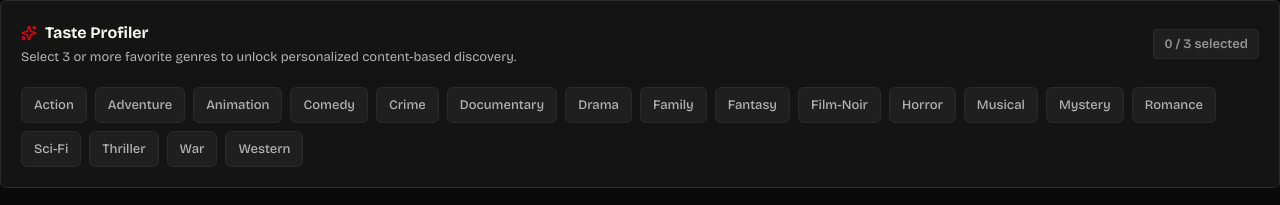
Test case: TasteProfiler Component › renders all 18 genres and toggles genre selections
expect the heading "Taste Profiler" is shown: met, box [45, 21, 148, 45]
expect the text "0 / 3 selected" is shown: met, box [1154, 29, 1259, 59]
Click the button "Sci-Fi": (51, 149) [21, 131, 81, 167]
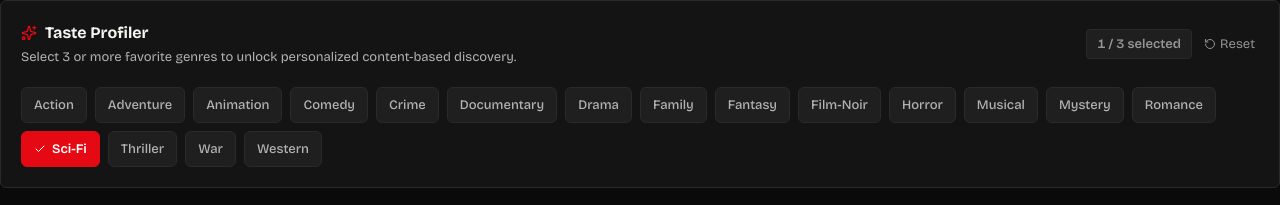
expect the text "1 / 3 selected" is shown: met, box [1086, 29, 1192, 59]
Note: Toggle 2 more genres to complete
Click the button "Action": (54, 105) [21, 87, 87, 123]
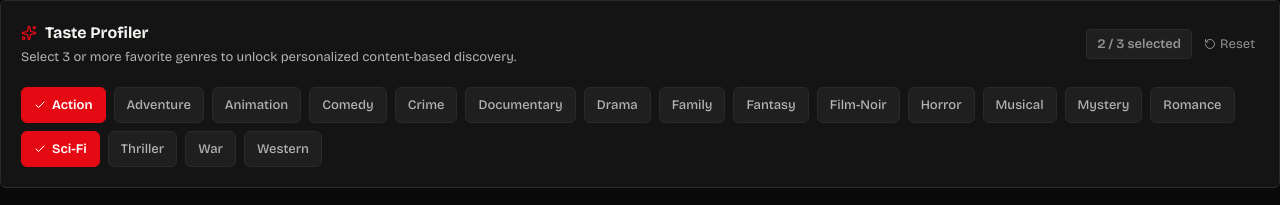
Click the button "Adventure": (159, 105) [114, 87, 204, 123]
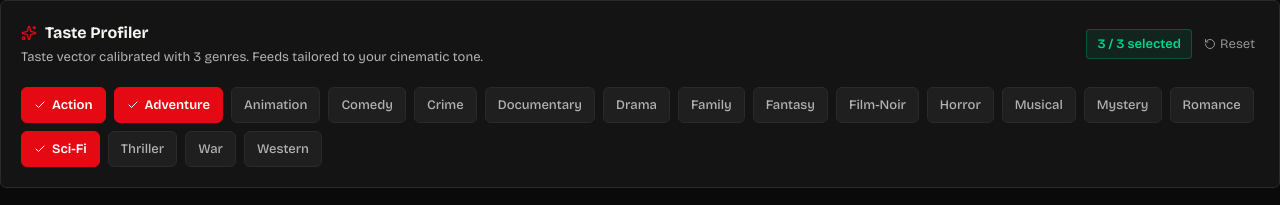
expect the text "3 / 3 selected" is shown: met, box [1086, 29, 1192, 59]
Note: Reset button
Click the button with aria-label "reset genre selections": (1230, 44) [1200, 30, 1259, 58]
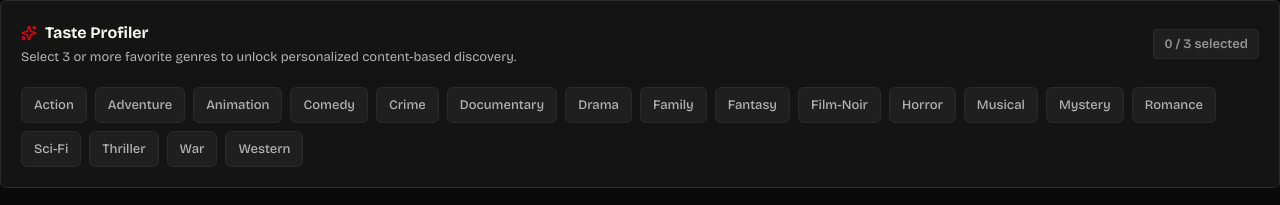
expect the text "0 / 3 selected" is shown: met, box [1154, 29, 1259, 59]
